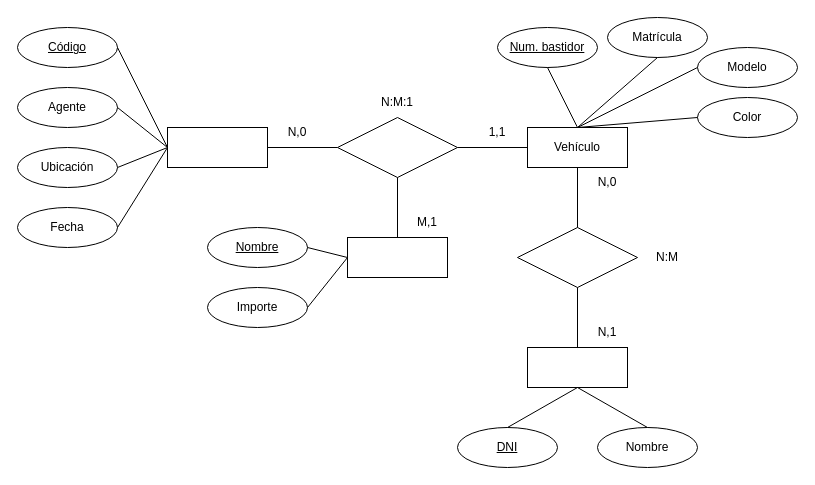
Image size: 815x485. Some labels were removed from this diagram. The centre of each missing label's shape, as x and y in pixels:
Ciudadano: [577,367]
conduce: [577,257]
Infracción: [397,257]
Multa: [217,147]
sanciona: [397,147]
